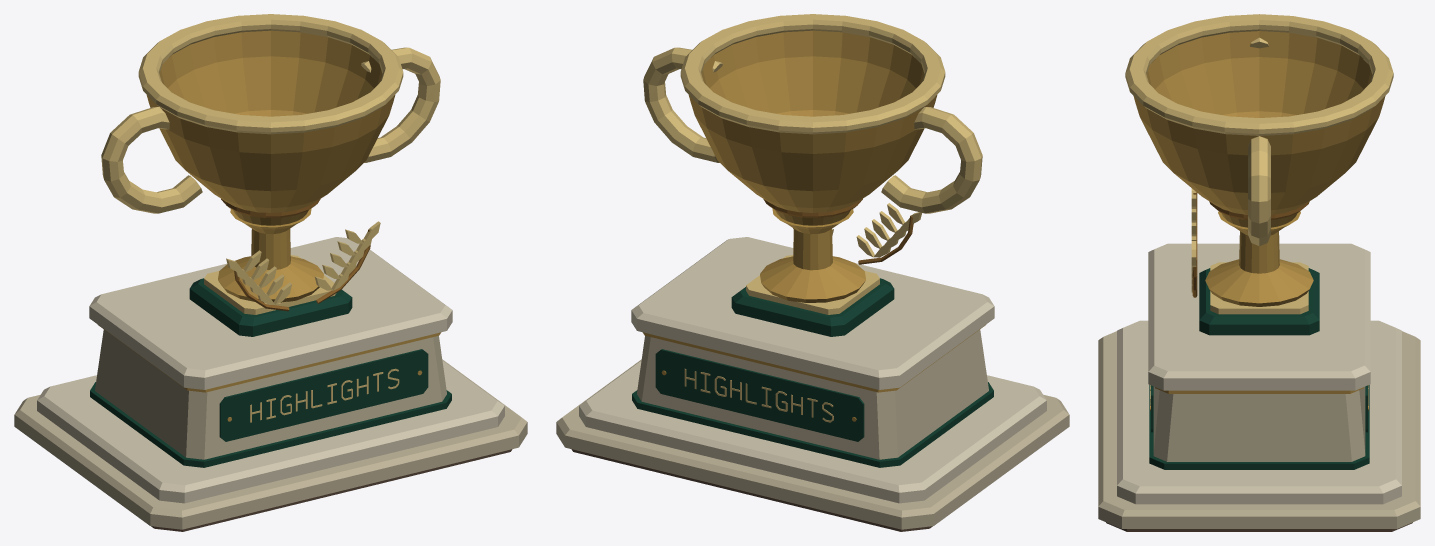
File: highlights-podium.glb
The picture shows the model from 3 angles, left to right: view 1: azimuth 30°, elevation 25°; view 2: azimuth 150°, elevation 25°; view 3: azimuth 270°, elevation 25°; orthographic projection.
Parts seen in each view (by area): view 1: highlights-podium; view 2: highlights-podium; view 3: highlights-podium.
Part boxes in pixels (left/top/right/bottom): highlights-podium: left=14, top=14, right=527, bottom=531; highlights-podium: left=556, top=14, right=1069, bottom=531; highlights-podium: left=1098, top=14, right=1420, bottom=531.
Size of the model in its own units: 5.2 by 4.85 by 3.8.
